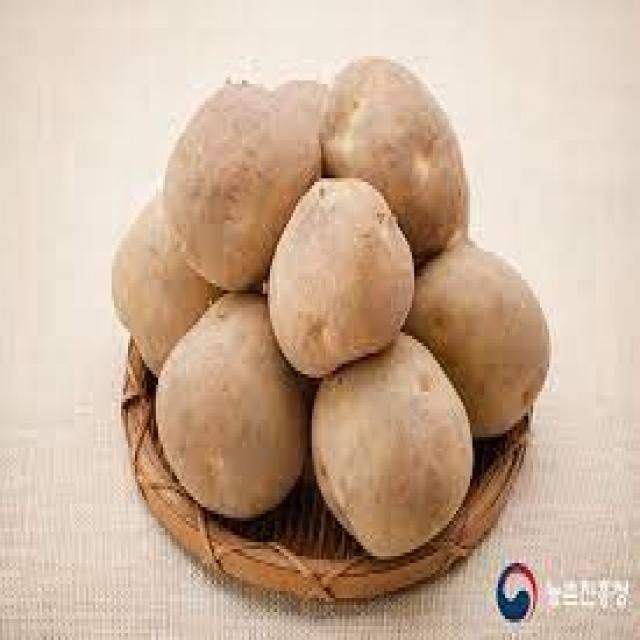Potato: (312, 336, 475, 560), (156, 295, 310, 521), (168, 80, 324, 290), (323, 56, 470, 262), (270, 178, 417, 378)
